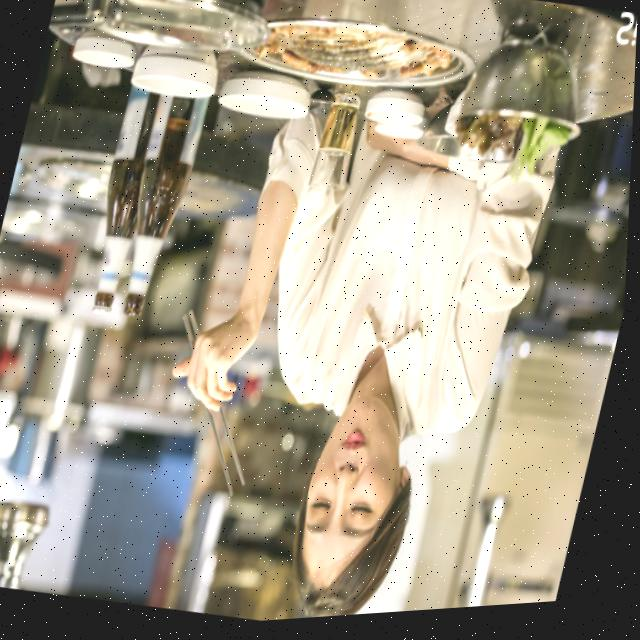eating-person: (105, 39, 610, 633)
